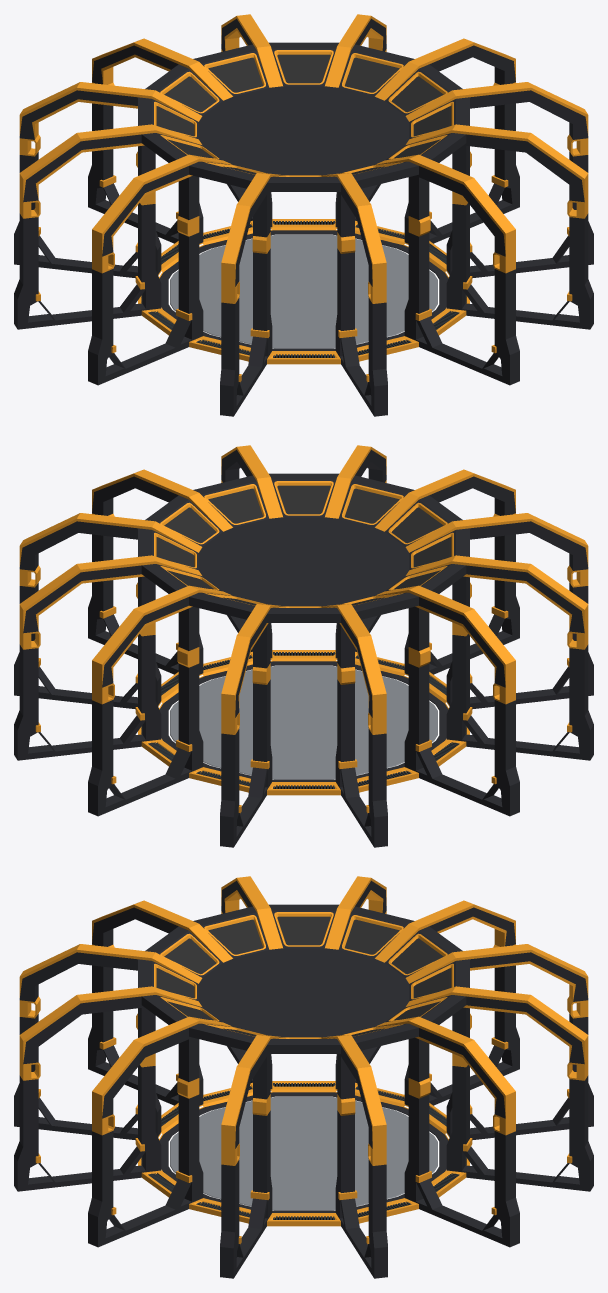
The model's file is SM_Frame_Type_01.glb.
3 renders of one model, top to bottom at view 1: azimuth 30°, elevation 25°; view 2: azimuth 150°, elevation 25°; view 3: azimuth 270°, elevation 25°, orthographic.
Visible parts, largest first — view 1: SM_Frame_Type_01; view 2: SM_Frame_Type_01; view 3: SM_Frame_Type_01.
Part boxes in pixels (box(x1,y1,x2,y2)): SM_Frame_Type_01: box(14, 14, 593, 416); SM_Frame_Type_01: box(14, 445, 593, 847); SM_Frame_Type_01: box(14, 876, 593, 1278).
Bounding box in the file's own units: 15.91 × 5.57 × 15.91.
3 materials, 1 textured.
